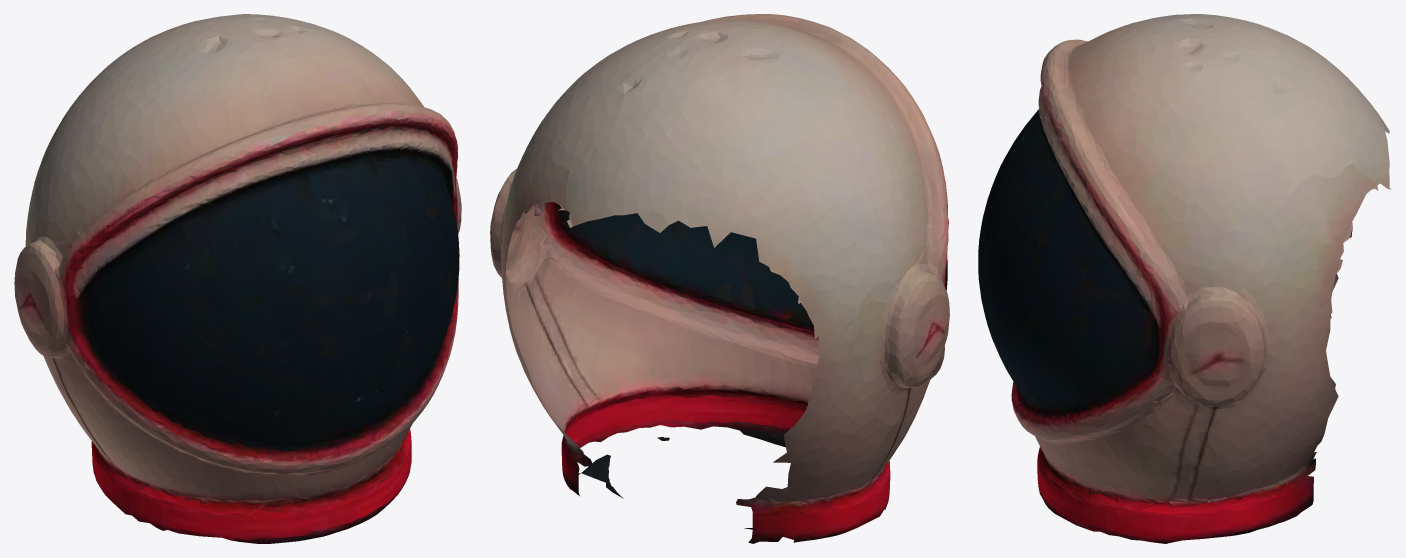
Rendered from astro-head-mars.glb.
The picture shows the model from 3 angles, left to right: view 1: azimuth 30°, elevation 25°; view 2: azimuth 150°, elevation 25°; view 3: azimuth 270°, elevation 25°; orthographic projection. The views are drawn at different scales.
Parts seen in each view (by area): view 1: tmp34g0m7c8ply003001001; view 2: tmp34g0m7c8ply003001001; view 3: tmp34g0m7c8ply003001001.
Boxes of the visible parts, bbox=[...] form: tmp34g0m7c8ply003001001: bbox=[14, 14, 461, 543]; tmp34g0m7c8ply003001001: bbox=[490, 14, 949, 543]; tmp34g0m7c8ply003001001: bbox=[978, 14, 1390, 543].
Size of the model in its own units: 0.9222 by 0.9489 by 0.7861.
1 material, 1 textured.
